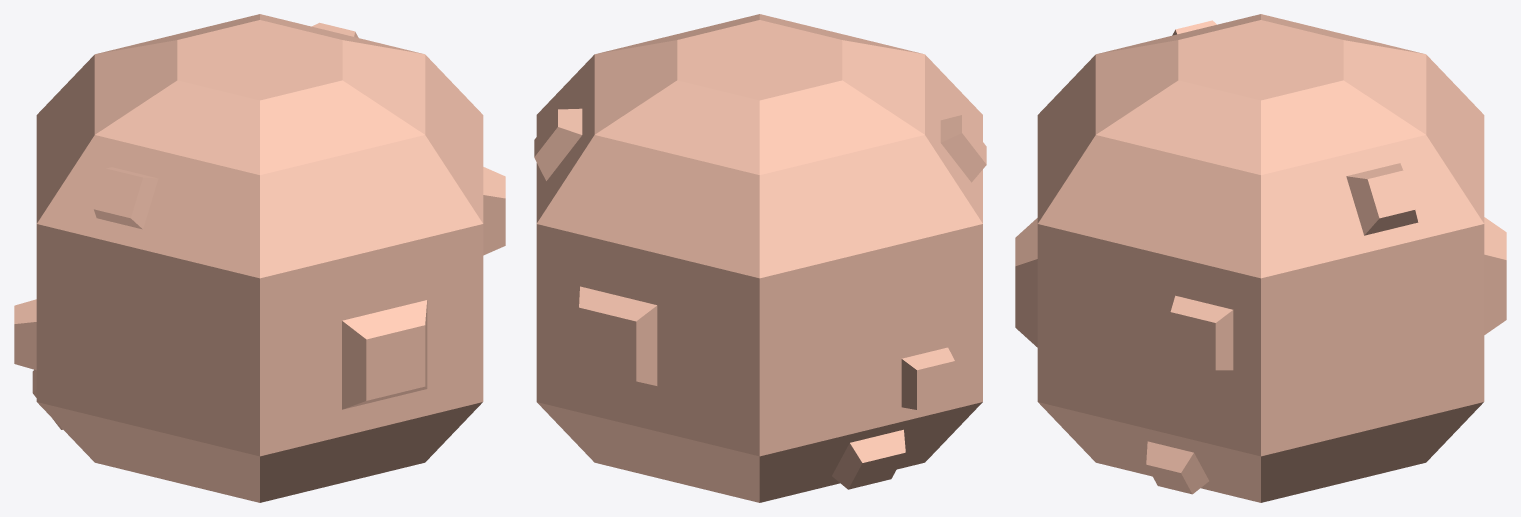
File: meteor_detailed.glb
3 views of the same model, side by side, from view 1: azimuth 30°, elevation 25°; view 2: azimuth 150°, elevation 25°; view 3: azimuth 270°, elevation 25° (orthographic).
Parts seen in each view (by area): view 1: meteor_detailed; view 2: meteor_detailed; view 3: meteor_detailed.
Part boxes in pixels (box(x1,y1,x2,y2)): meteor_detailed: box(14, 14, 505, 502); meteor_detailed: box(534, 14, 986, 502); meteor_detailed: box(1015, 14, 1506, 502).
Bounding box in the file's own units: 0.866 × 0.735 × 0.825.
Materials: 1 (1 with a texture image).
